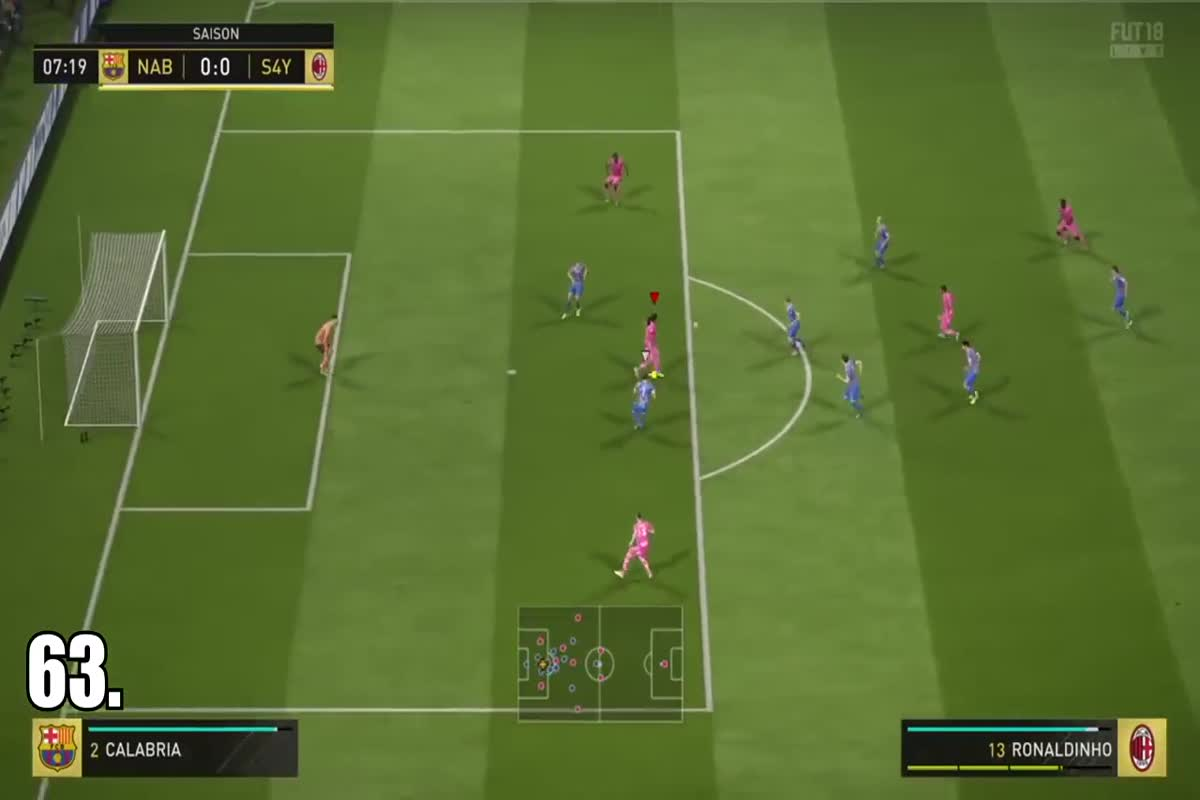ball: (689, 316, 706, 333)
